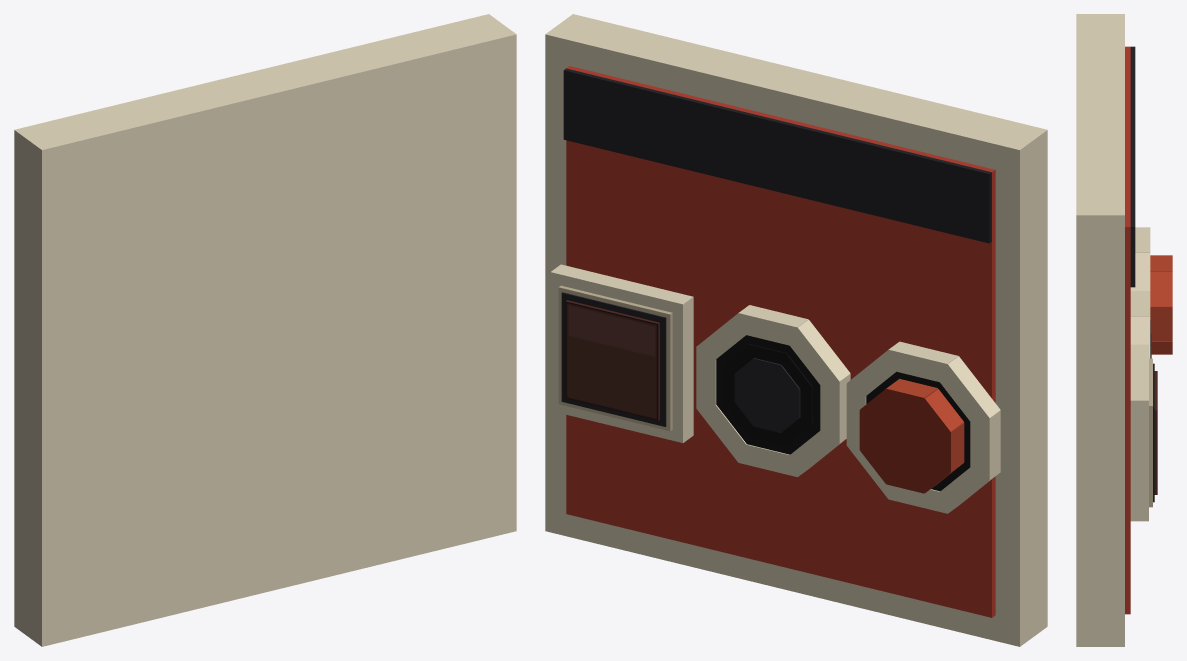
File: lamp_btn_off_a.obj
3 views of the same model, side by side, from view 1: azimuth 30°, elevation 25°; view 2: azimuth 150°, elevation 25°; view 3: azimuth 270°, elevation 25° (orthographic). The views are drawn at different scales.
Visible parts, largest first — view 1: Panel; view 2: Panel, Lamp, BtnB, BtnA; view 3: Panel, Lamp, BtnB, BtnA.
Part boxes in pixels (<box>): Panel: <box>14,14,516,646</box>; Panel: <box>545,14,1047,646</box>; Lamp: <box>550,264,693,442</box>; BtnB: <box>846,341,1000,513</box>; BtnA: <box>696,305,850,477</box>; Panel: <box>1076,14,1135,646</box>; Lamp: <box>1130,344,1157,521</box>; BtnB: <box>1130,227,1172,354</box>; BtnA: <box>1130,291,1151,358</box>.
Size of the model in its own units: 1 by 1 by 0.2016.
1 material, 1 textured.
